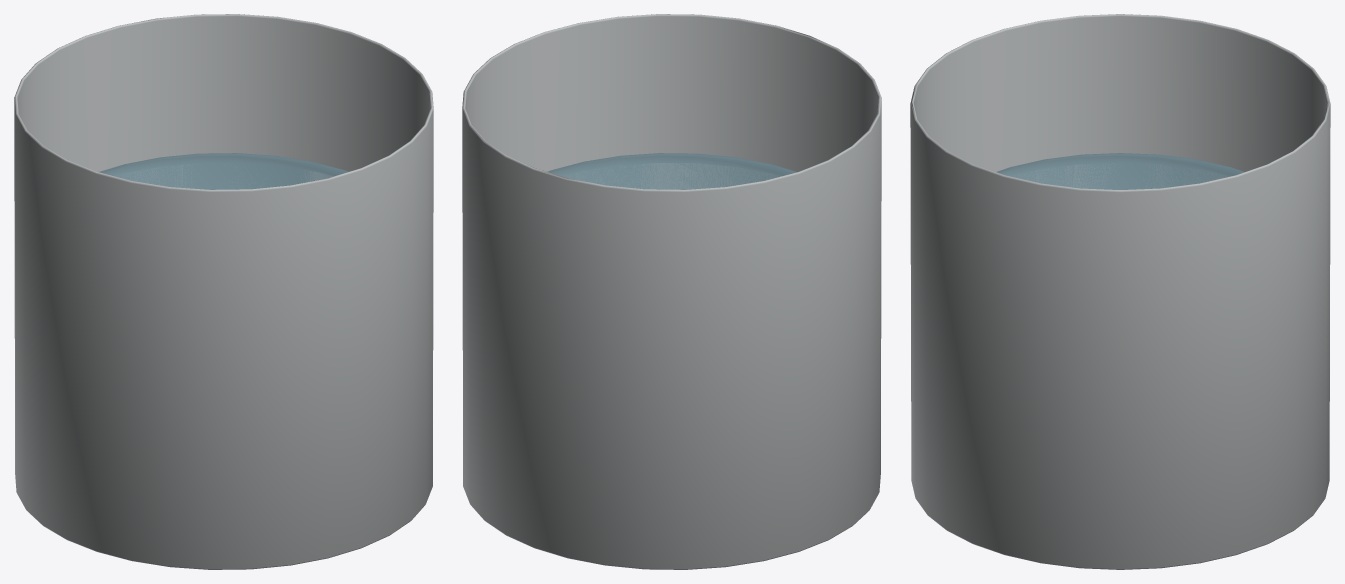
Rendered from glass.glb.
3 renders of one model, left to right at view 1: azimuth 30°, elevation 25°; view 2: azimuth 150°, elevation 25°; view 3: azimuth 270°, elevation 25°, orthographic.
Parts seen in each view (by area): view 1: Drink_Glass.001, Drink_Liquid; view 2: Drink_Glass.001, Drink_Liquid; view 3: Drink_Glass.001, Drink_Liquid.
Boxes of the visible parts, bbox=[...] form: Drink_Glass.001: bbox=[14, 14, 433, 569]; Drink_Liquid: bbox=[99, 153, 348, 189]; Drink_Glass.001: bbox=[462, 14, 881, 569]; Drink_Liquid: bbox=[547, 153, 796, 189]; Drink_Glass.001: bbox=[910, 14, 1330, 569]; Drink_Liquid: bbox=[996, 153, 1244, 189].
Bounding box in the file's own units: 1.24 × 1.23 × 1.24.
